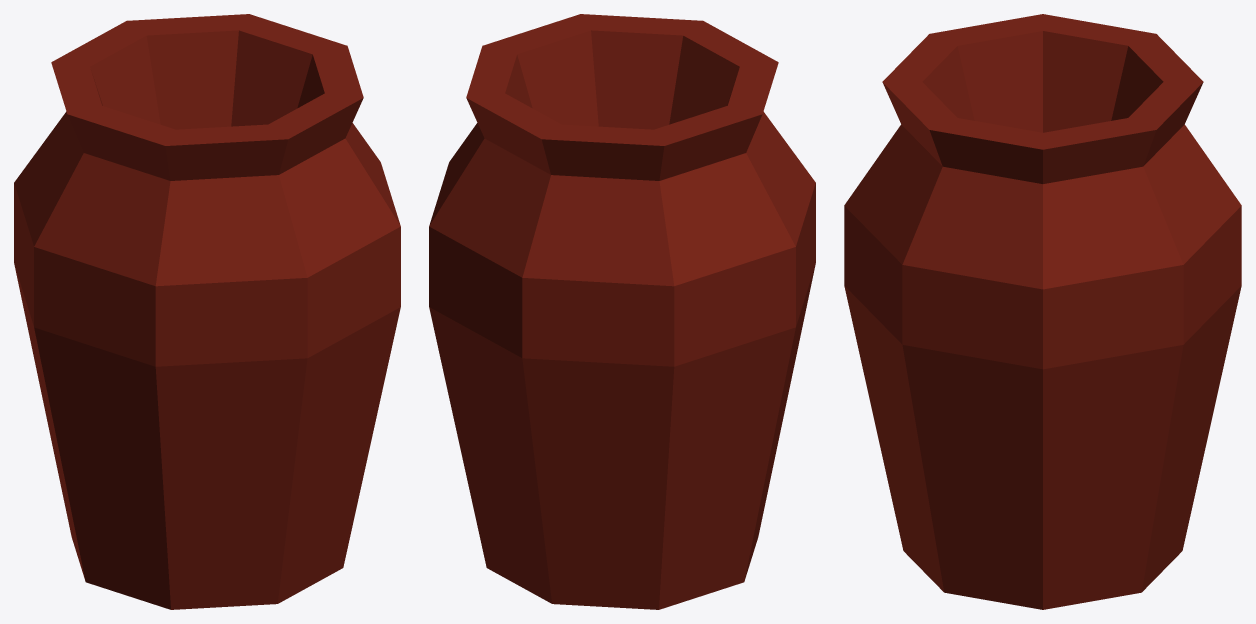
Rendered from pot_2.obj.
3 views of the same model, side by side, from view 1: azimuth 30°, elevation 25°; view 2: azimuth 150°, elevation 25°; view 3: azimuth 270°, elevation 25° (orthographic).
Parts seen in each view (by area): view 1: pot_2_Cylinder.008; view 2: pot_2_Cylinder.008; view 3: pot_2_Cylinder.008.
Boxes of the visible parts, x1=… form: pot_2_Cylinder.008: x1=14, y1=14, x2=400, y2=609; pot_2_Cylinder.008: x1=429, y1=14, x2=815, y2=609; pot_2_Cylinder.008: x1=844, y1=14, x2=1241, y2=609.
Bounding box in the file's own units: 0.6603 × 0.8598 × 0.6603.
